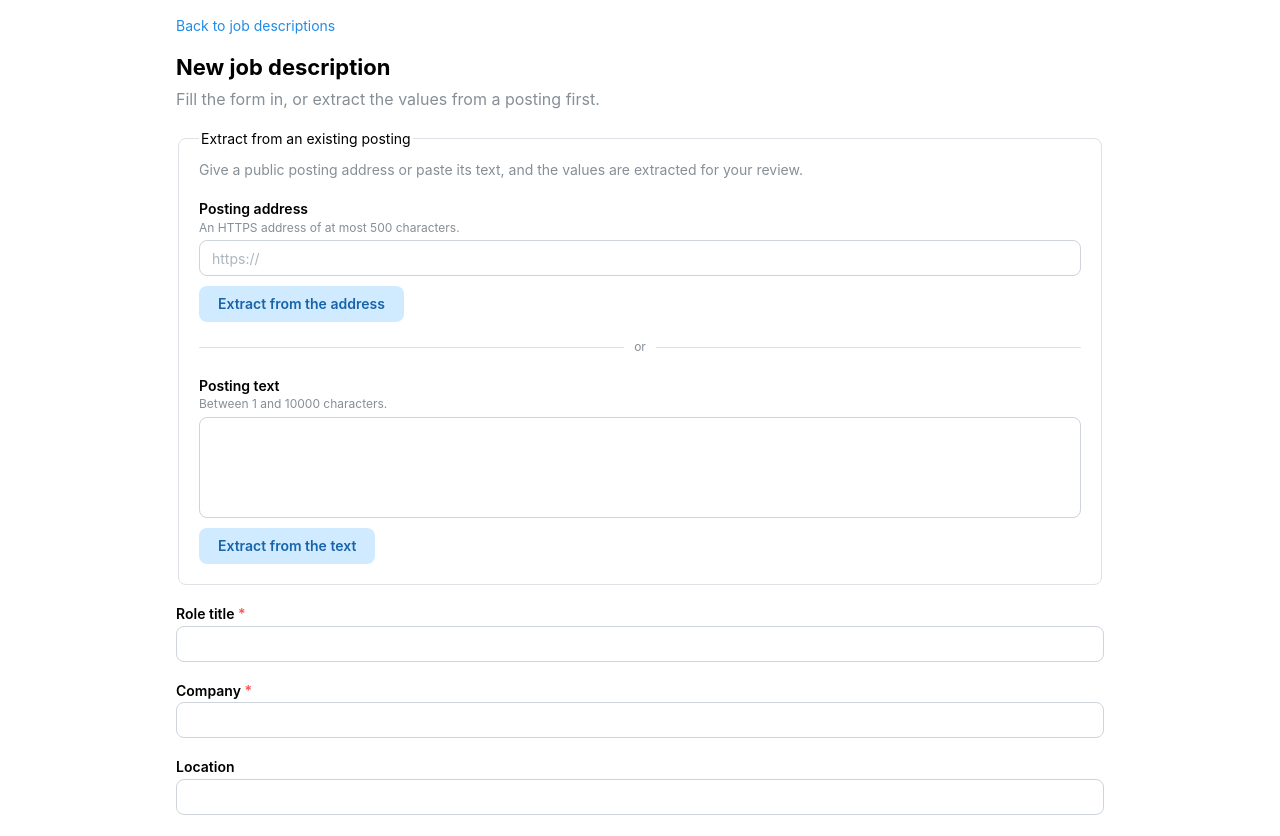
polling an extraction draft (Req 13 AC5) › stops polling when the user discards the extraction
Type "Platform engineer at HasoubLabs" into the text box with test id "job-extract-text" at x=640, y=467, box [199,417,1081,518]
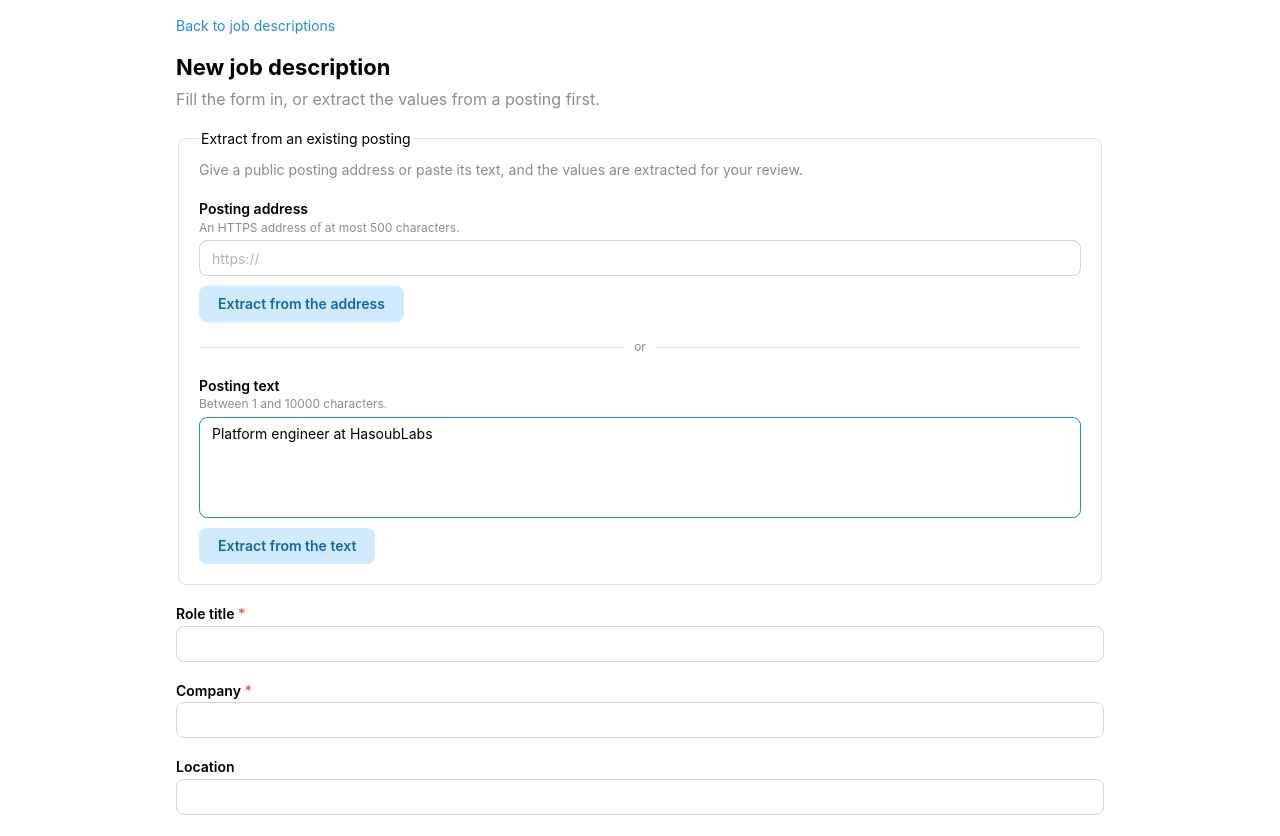
Click the button with test id "job-extract-text-submit" at x=287, y=546, box [199,528,375,564]
Wait 5000 ms
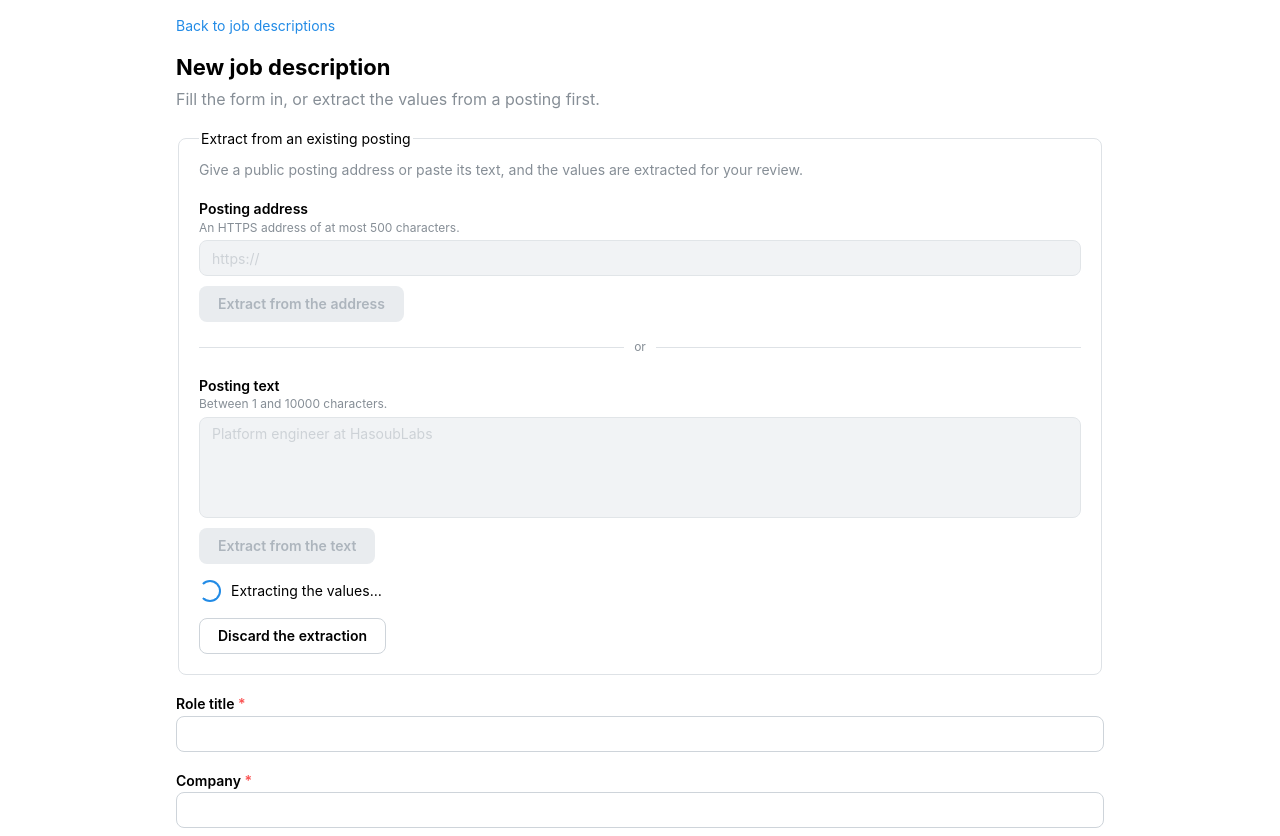
Expected: the message "Extracting the values…" is shown, [199,580,382,602]
Click the button with test id "job-extract-discard" at x=293, y=636, box [199,618,386,654]
Wait 20000 ms
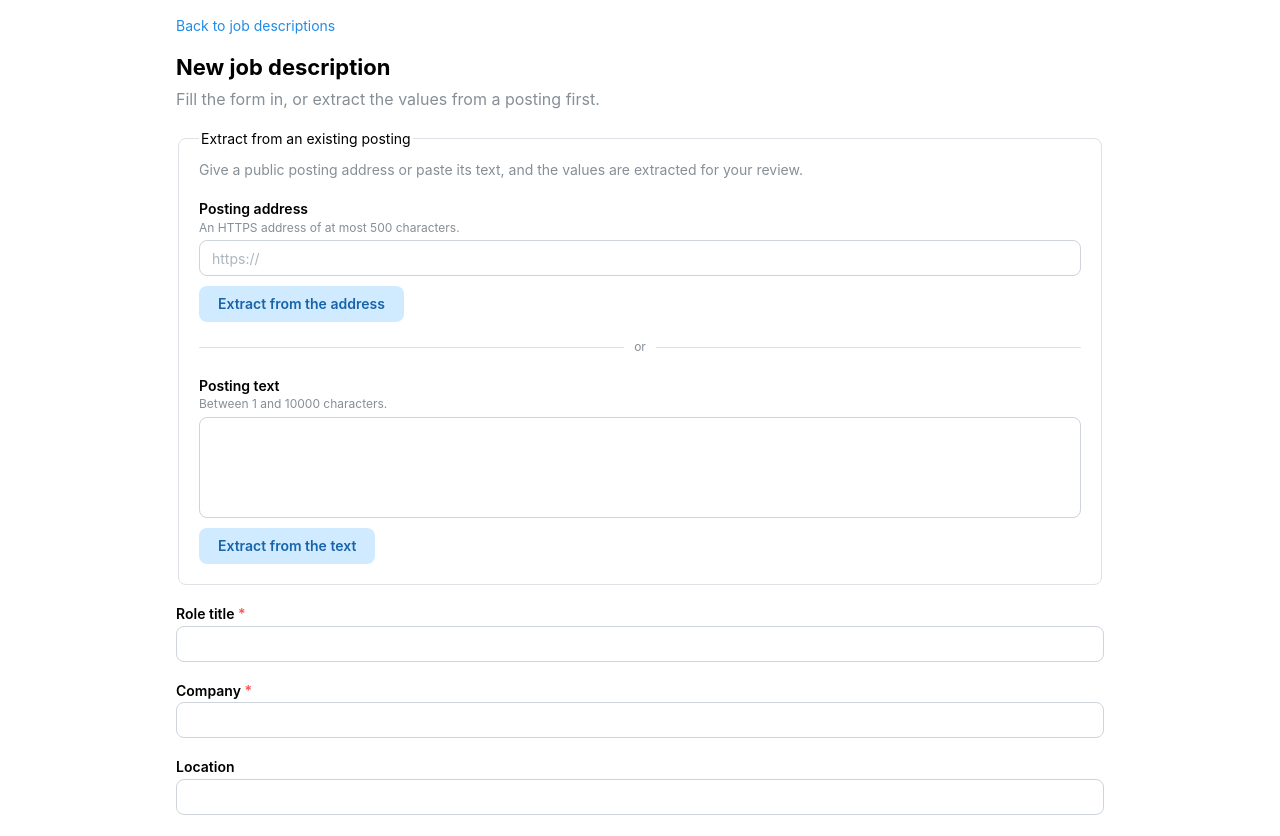
Expected: the message with test id "job-extract-pending" is gone
